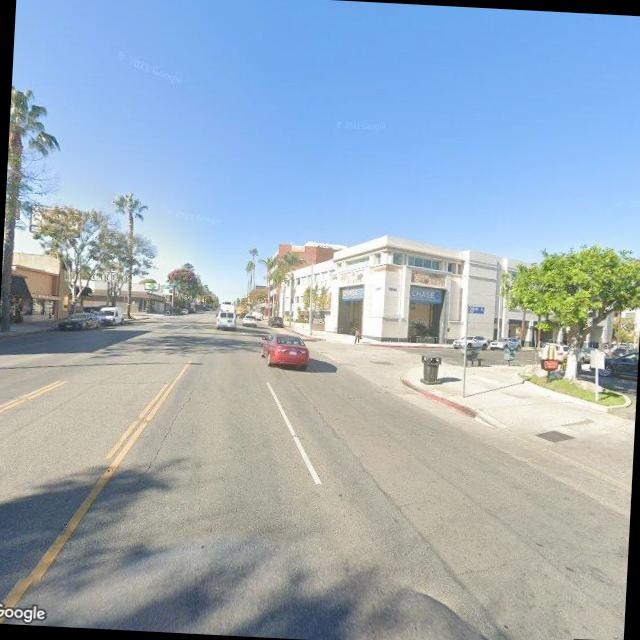pothole: (137, 382, 195, 488)
